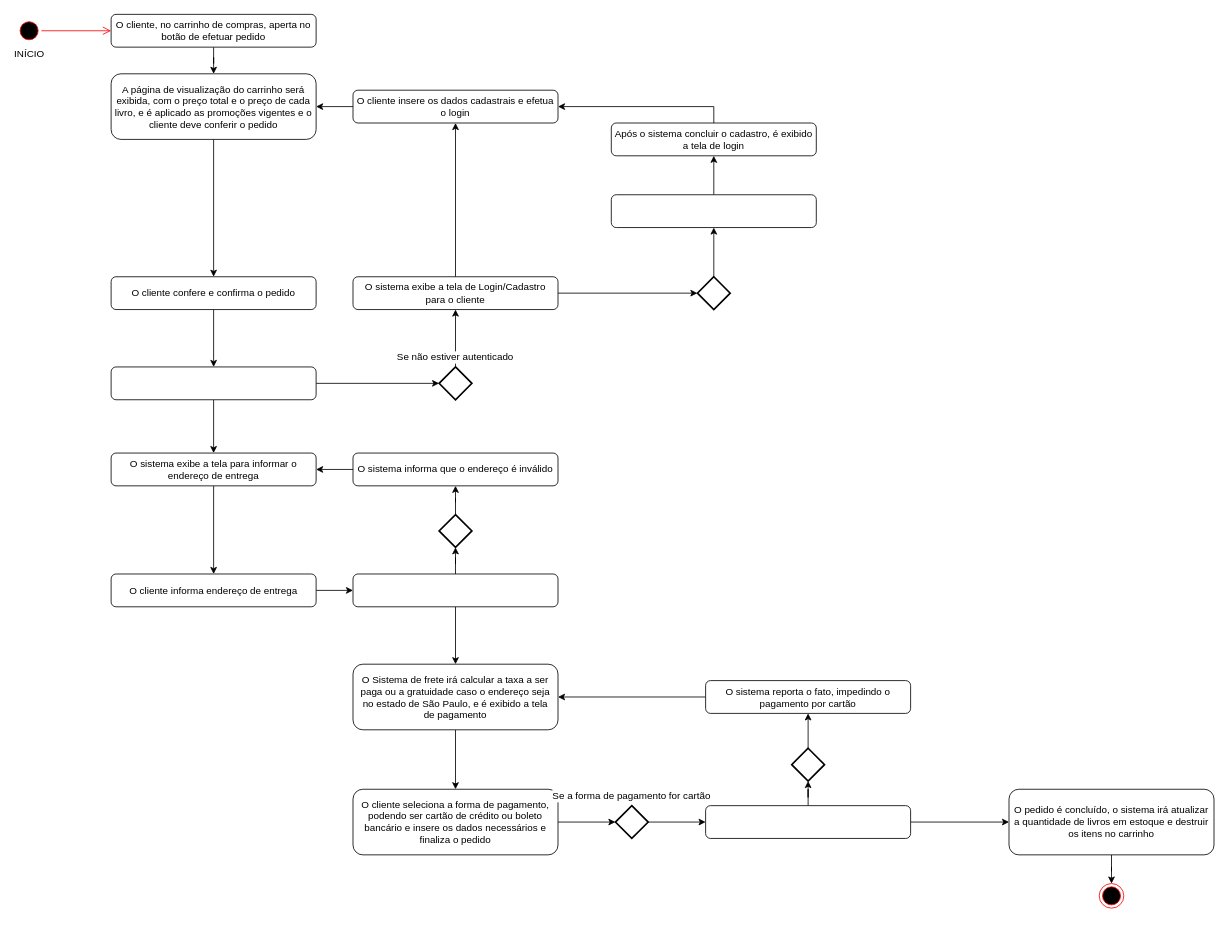
Image size: 1228x940. Some labels were removed from this diagram. The shapes that lost their labels are listed below. From the top down, each one's box as (x1, y1, x2, y2) in pixels, then its label:
(610, 194, 816, 228): O cliente efetua o cadastro registrando os dados requisitados
(696, 276, 731, 310): Se o cliente não possuir cadastro
(110, 366, 316, 400): O sistema verifica se o cliente está autenticado
(438, 513, 472, 548): Se o endereço for inválido
(352, 573, 558, 607): O sistema verifica se o endereço é válido
(790, 747, 825, 781): Se o cartão for inválido
(705, 805, 911, 838): O sistema verifica se o cartão é válido
(1098, 883, 1124, 908): FIM
